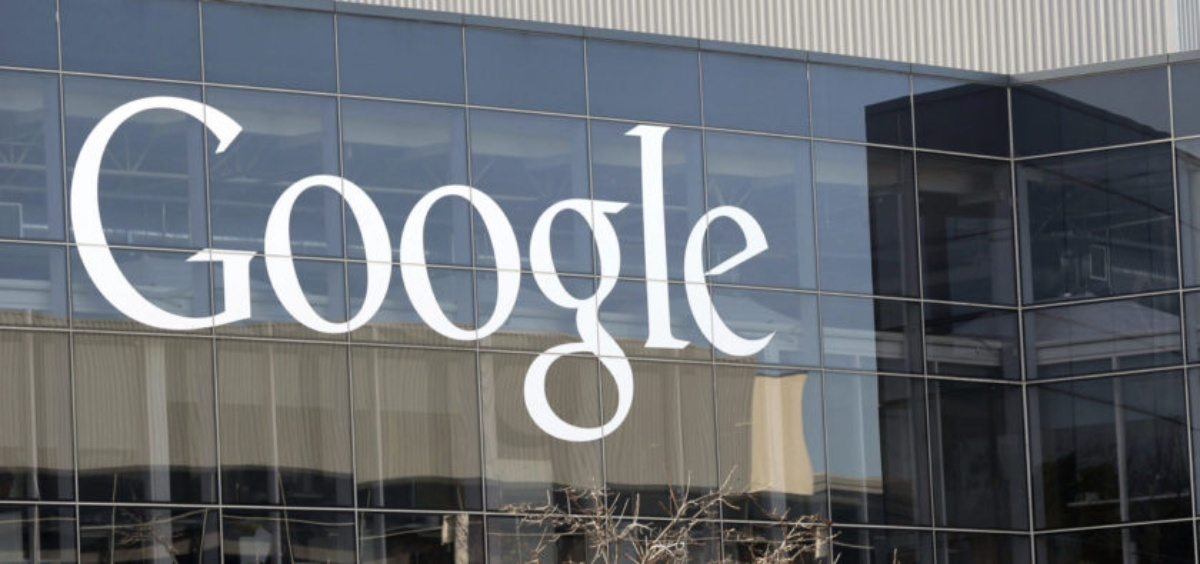text: (769, 70, 785, 462), (65, 70, 80, 462), (81, 70, 96, 462), (97, 70, 112, 462), (113, 70, 128, 462), (129, 70, 144, 462), (145, 70, 160, 462), (161, 70, 176, 462), (177, 70, 192, 462), (193, 70, 208, 462), (209, 70, 224, 462), (225, 70, 240, 462), (241, 70, 256, 462), (257, 70, 272, 462), (273, 70, 288, 462), (289, 70, 304, 462), (305, 70, 320, 462), (321, 70, 336, 462), (337, 70, 352, 462), (353, 70, 368, 462), (369, 70, 384, 462), (385, 70, 400, 462), (401, 70, 416, 462), (417, 70, 432, 462), (433, 70, 448, 462), (449, 70, 464, 462), (465, 70, 480, 462), (481, 70, 496, 462), (497, 70, 512, 462), (513, 70, 528, 462), (529, 70, 544, 462), (545, 70, 560, 462), (561, 70, 576, 462), (577, 70, 592, 462), (593, 70, 608, 462), (609, 70, 624, 462), (625, 70, 640, 462), (641, 70, 656, 462), (657, 70, 672, 462), (673, 70, 688, 462), (689, 70, 704, 462), (705, 70, 720, 462), (721, 70, 736, 462), (737, 70, 752, 462), (753, 70, 768, 462), (61, 70, 64, 462)
